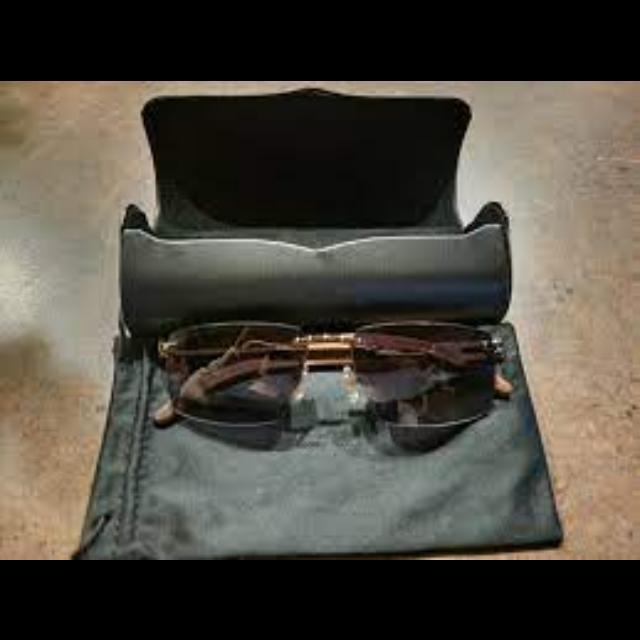sunglasses: (148, 322, 516, 430)
